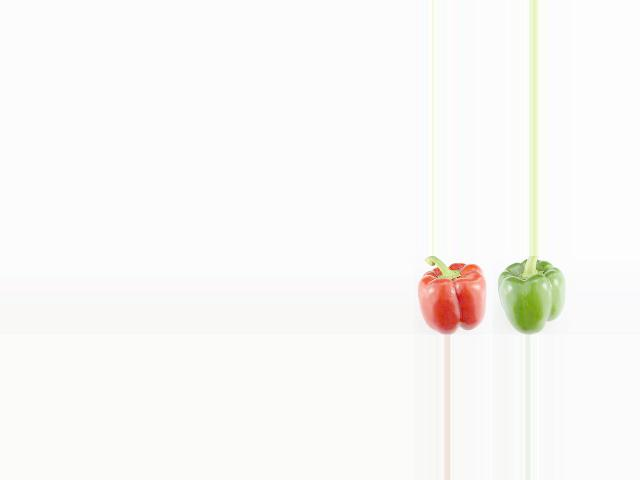bell_pepper: (495, 257, 567, 331)
